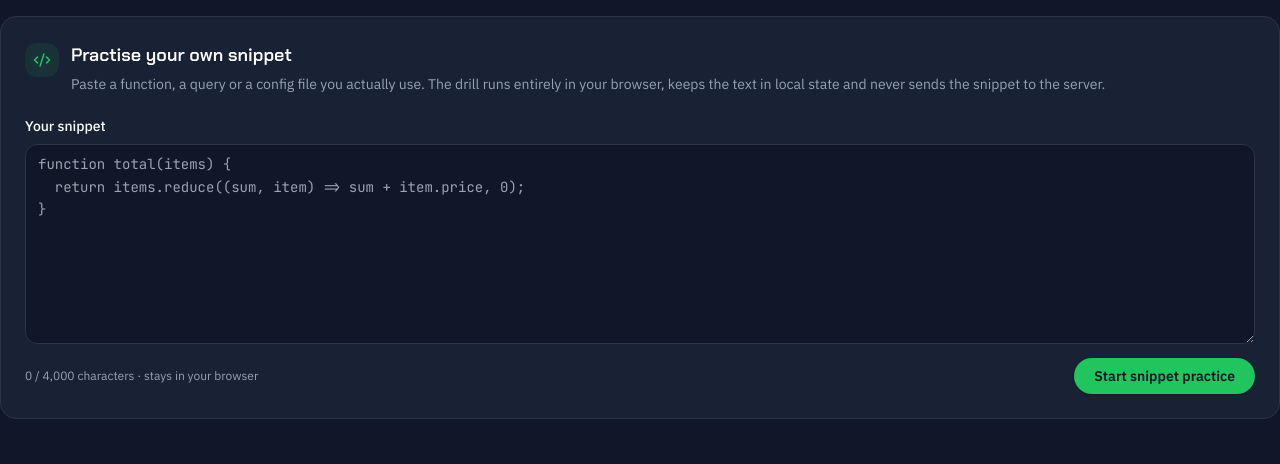
Test: CustomCodePractice › requires a real snippet before starting
This screenshot has width=1280, height=464.
Click the button with test id "custom-code-practice-start" at [1165, 376], box top-left (1074, 358), bottom-right (1255, 394)
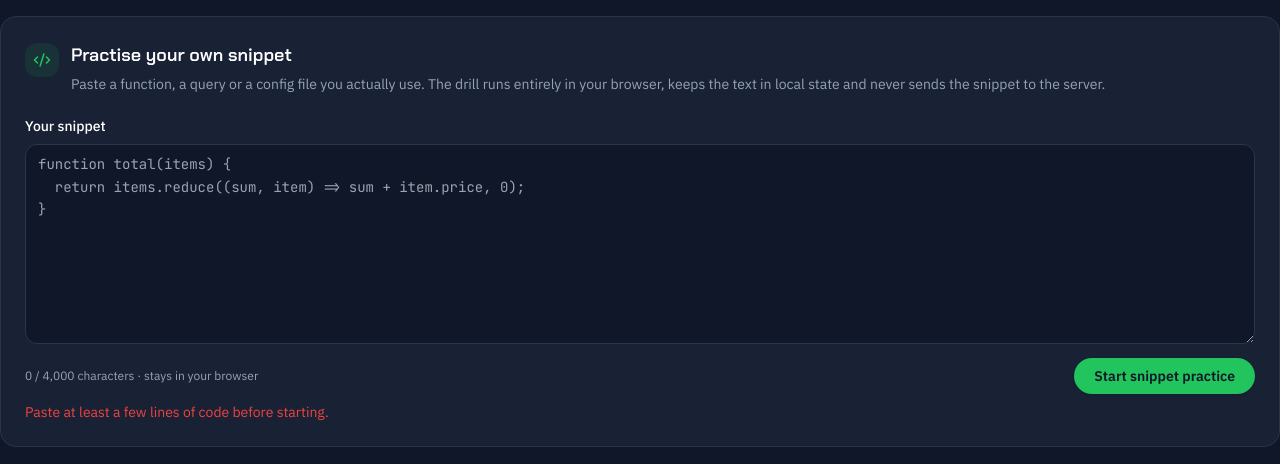
Now the message with test id "custom-code-practice-error" shows "at least a few lines", box top-left (25, 403), bottom-right (329, 421)
